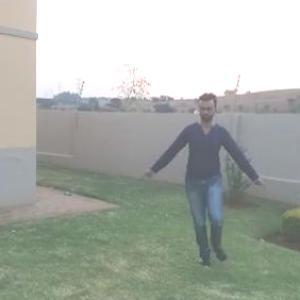land: (150, 90, 271, 280)
